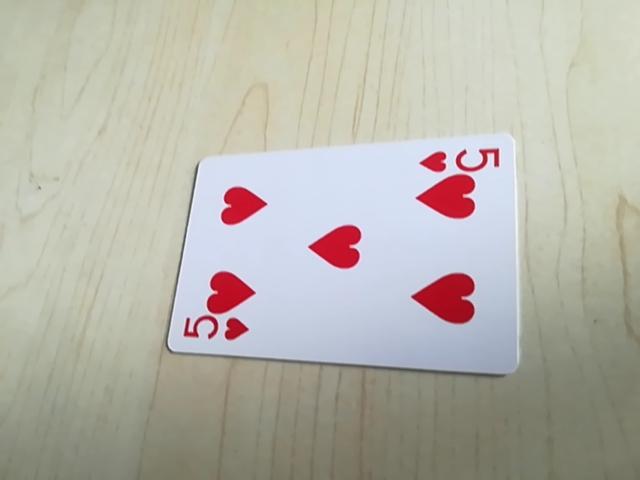hx 5: (417, 139, 503, 177), (179, 313, 251, 350)
